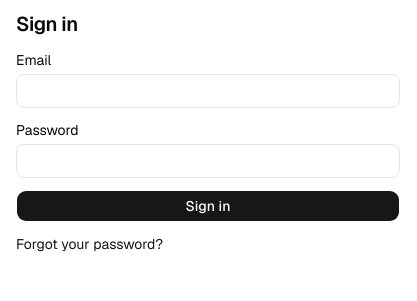
it: sign-in page › shows an error on a failed sign-in
Type "a@example.com" into the field labelled "Email".
click(208, 91); type("a@example.com")  # box [16,74,400,108]
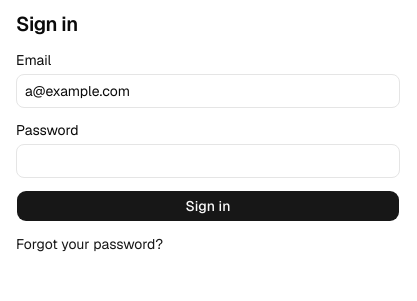
Type "wrong" into the password field labelled "Password".
click(208, 161); type("wrong")  # box [16,144,400,178]
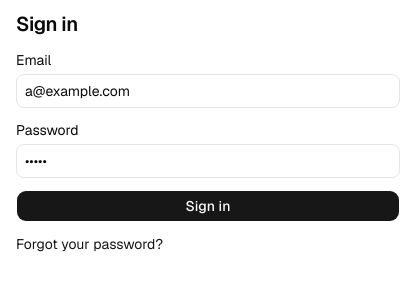
Click the button "Sign in".
click(208, 206)  # box [16,190,400,222]
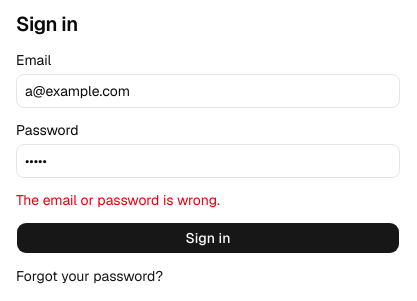
Expected: the message reads "The email or password is wrong.", [16,191,220,209]
